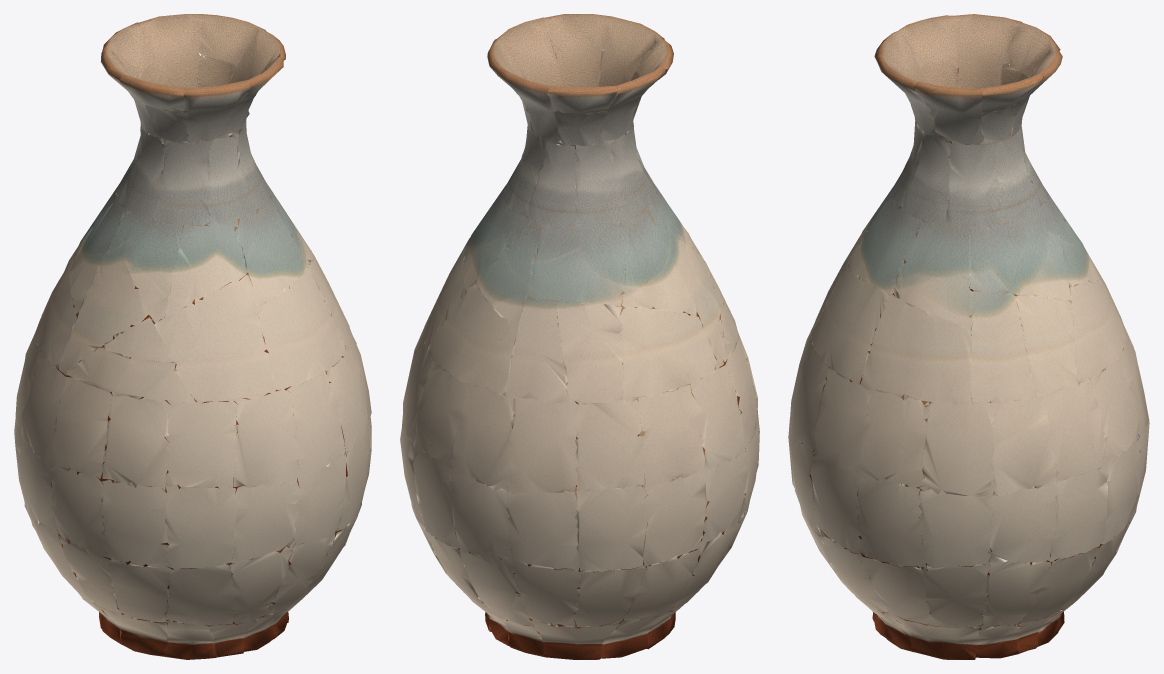
The model's file is haku_stoneware_vase.glb.
3 views of the same model, side by side, from view 1: azimuth 30°, elevation 25°; view 2: azimuth 150°, elevation 25°; view 3: azimuth 270°, elevation 25° (orthographic).
Parts seen in each view (by area): view 1: Mesh_0; view 2: Mesh_0; view 3: Mesh_0.
Part boxes in pixels (x1=…): Mesh_0: x1=14, y1=14, x2=371, y2=659; Mesh_0: x1=400, y1=14, x2=759, y2=659; Mesh_0: x1=788, y1=14, x2=1149, y2=659.
Size of the model in its own units: 0.1717 by 0.3007 by 0.1721.
Materials: 1 (1 with a texture image).
